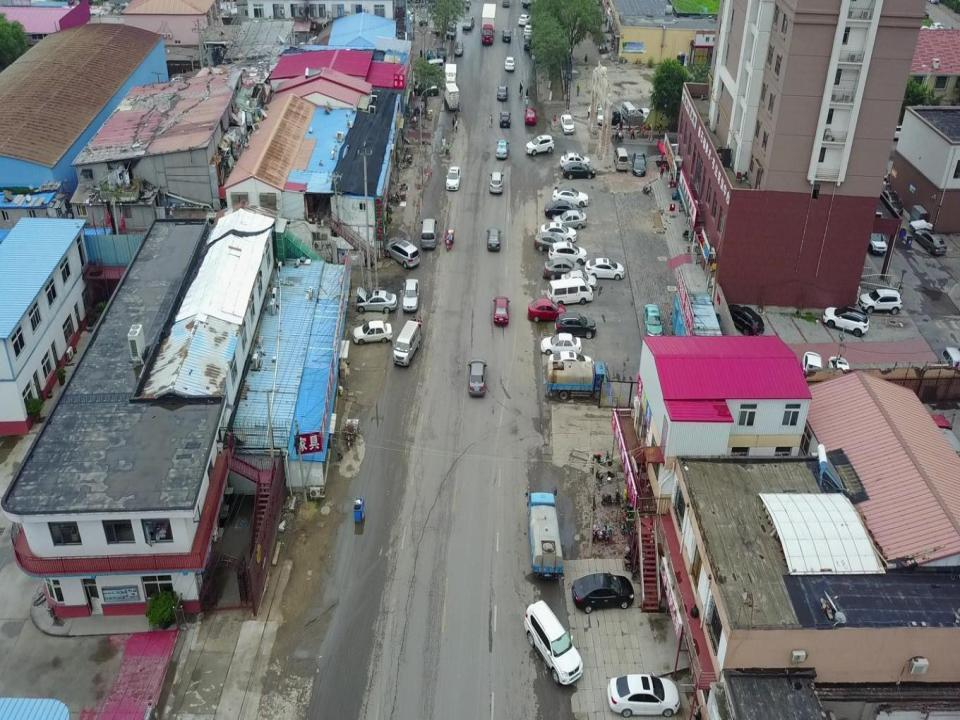car: (524, 600, 584, 685), (606, 671, 682, 717), (571, 571, 635, 614), (822, 305, 870, 338), (724, 303, 765, 338), (554, 311, 598, 339), (354, 286, 398, 314), (546, 350, 595, 375), (858, 288, 904, 314), (827, 355, 852, 400), (801, 351, 823, 402), (352, 319, 393, 345), (385, 239, 421, 268), (539, 332, 582, 356), (583, 257, 625, 280), (913, 229, 948, 256), (543, 256, 582, 280), (528, 298, 566, 322), (547, 241, 587, 263), (468, 357, 489, 398), (559, 270, 598, 292), (863, 223, 887, 257), (540, 221, 577, 243), (552, 186, 590, 207), (544, 200, 583, 220), (642, 302, 663, 338), (553, 209, 587, 231), (533, 232, 570, 252), (879, 187, 903, 216), (562, 160, 596, 180), (401, 278, 420, 312), (525, 135, 555, 156), (492, 295, 510, 326), (560, 152, 591, 170), (587, 102, 607, 126), (486, 226, 502, 252), (446, 166, 462, 192), (489, 170, 505, 195), (632, 151, 646, 177), (417, 83, 439, 98), (605, 104, 620, 126), (560, 114, 575, 134), (636, 106, 653, 122), (496, 139, 510, 158), (524, 106, 537, 126), (446, 20, 458, 40), (499, 110, 512, 128), (503, 55, 516, 72), (462, 15, 475, 32), (496, 85, 508, 102), (452, 40, 464, 57), (436, 46, 448, 62), (419, 7, 429, 26), (522, 23, 533, 40), (518, 14, 532, 26), (501, 29, 512, 44), (523, 34, 532, 52)
truck: (524, 485, 564, 580), (545, 359, 612, 401), (480, 2, 496, 46), (444, 82, 460, 112), (444, 62, 457, 92)
van: (546, 277, 594, 307), (392, 319, 421, 367), (936, 346, 960, 382), (420, 218, 438, 250), (620, 101, 639, 125), (613, 147, 629, 172), (423, 56, 445, 74)
